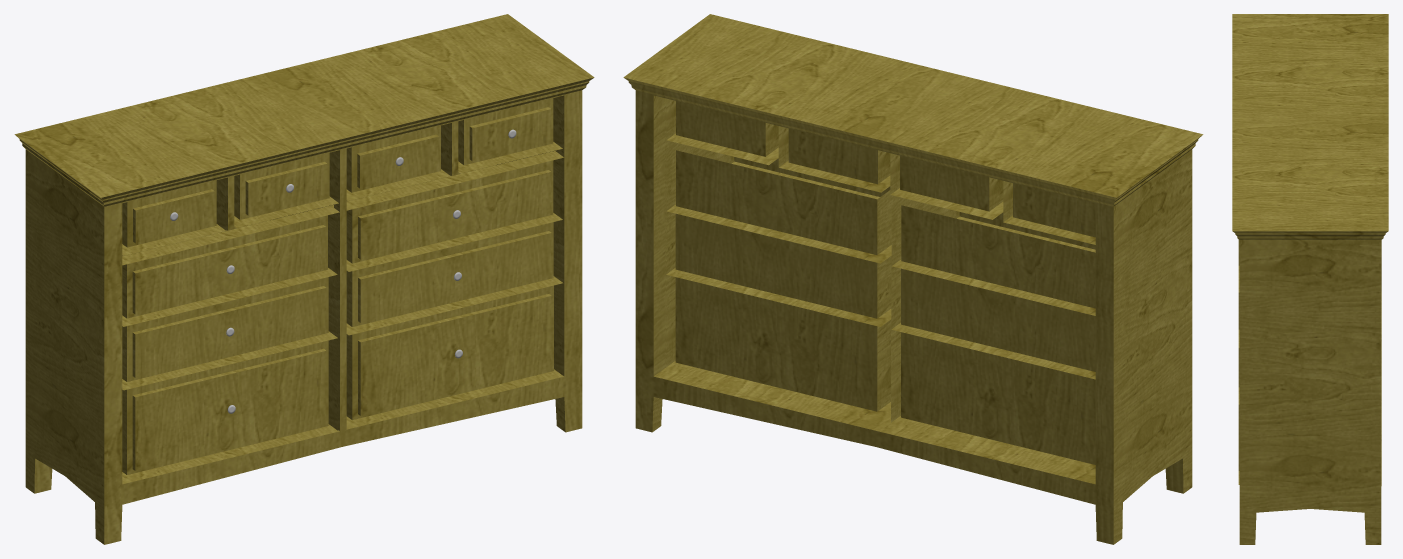
The model's file is largebox.glb.
3 renders of one model, left to right at view 1: azimuth 30°, elevation 25°; view 2: azimuth 150°, elevation 25°; view 3: azimuth 270°, elevation 25°, orthographic. The views are drawn at different scales.
Visible parts, largest first — view 1: wood_obj; view 2: wood_obj; view 3: wood_obj.
Boxes of the visible parts, x1,y1,x2,y2 form: wood_obj: [14, 14, 594, 544]; wood_obj: [623, 14, 1203, 544]; wood_obj: [1232, 14, 1388, 544].
Bounding box in the file's own units: 0.00156 × 0.00107 × 0.000476.
2 materials, 1 textured.
